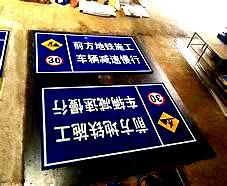sign: (39, 83, 196, 162), (37, 31, 147, 74)
